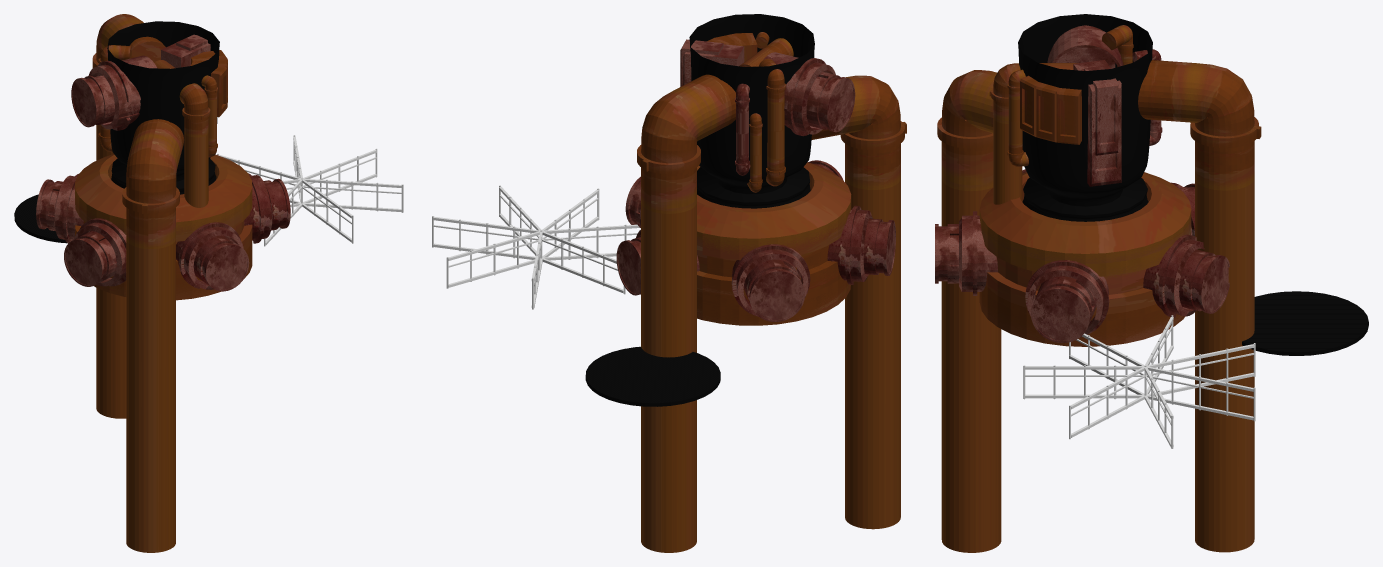
File: tankTubeUpsiderDow.fbx
3 renders of one model, left to right at view 1: azimuth 30°, elevation 25°; view 2: azimuth 150°, elevation 25°; view 3: azimuth 270°, elevation 25°, orthographic. The views are drawn at different scales.
Visible parts, largest first — view 1: Cylinder.184, Cylinder.178, BézierCurve.004, Cylinder.179, Cylinder.193, Cylinder.180, Cylinder.044, Cylinder.182, Cylinder.191, Cylinder.190, Cylinder.174, Cube.089 (+3 smaller); view 2: Cylinder.193, Cylinder.184, Cylinder.178, BézierCurve.004, Cylinder.179, Cylinder.044, Cylinder.174, Cylinder.180, Cylinder.190, Cylinder.191, Cylinder.187, Cylinder.188 (+5 smaller); view 3: Cylinder.193, Cylinder.184, Cylinder.178, BézierCurve.004, Cylinder.044, Cylinder.179, Cylinder.180, Cylinder.174, Cube.089, Cylinder.182, Cube.087, Cube.088 (+4 smaller).
Boxes of the visible parts, bbox=[...] form: Cylinder.184: bbox=[122, 119, 183, 552]; Cylinder.178: bbox=[75, 154, 252, 300]; BézierCurve.004: bbox=[107, 21, 219, 194]; Cylinder.179: bbox=[36, 178, 290, 291]; Cylinder.193: bbox=[92, 14, 165, 418]; Cylinder.180: bbox=[54, 173, 272, 289]; Cylinder.044: bbox=[217, 135, 403, 246]; Cylinder.182: bbox=[154, 60, 210, 207]; Cylinder.191: bbox=[88, 55, 157, 130]; Cylinder.190: bbox=[71, 73, 114, 127]; Cylinder.174: bbox=[14, 194, 67, 243]; Cube.089: bbox=[190, 50, 227, 117]; Cylinder.193: bbox=[637, 74, 735, 552]; Cylinder.184: bbox=[811, 75, 906, 529]; Cylinder.178: bbox=[697, 162, 851, 325]; BézierCurve.004: bbox=[689, 14, 814, 208]; Cylinder.179: bbox=[616, 160, 895, 321]; Cylinder.044: bbox=[432, 185, 639, 309]; Cylinder.174: bbox=[585, 346, 720, 406]; Cylinder.180: bbox=[636, 205, 872, 316]; Cylinder.190: bbox=[806, 72, 855, 132]; Cylinder.191: bbox=[763, 52, 835, 136]; Cylinder.187: bbox=[759, 58, 785, 186]; Cylinder.188: bbox=[735, 83, 750, 175]; Cylinder.193: bbox=[1137, 59, 1261, 552]; Cylinder.184: bbox=[937, 70, 1001, 552]; Cylinder.178: bbox=[979, 172, 1191, 346]; BézierCurve.004: bbox=[1018, 14, 1152, 221]; Cylinder.044: bbox=[1023, 315, 1255, 448]; Cylinder.179: bbox=[935, 169, 1229, 342]; Cylinder.180: bbox=[959, 182, 1204, 337]; Cylinder.174: bbox=[1242, 291, 1368, 355]; Cube.089: bbox=[1020, 75, 1081, 144]; Cylinder.182: bbox=[989, 63, 1078, 204]; Cube.087: bbox=[1073, 60, 1121, 186]; Cube.088: bbox=[1084, 65, 1118, 155].
Size of the model in its own units: 1658 by 1969 by 1452.
3 materials, 2 textured.
